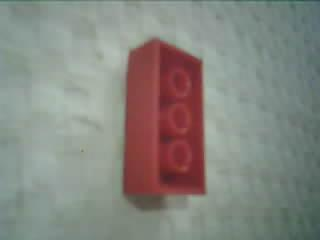lego: (121, 37, 206, 197)
